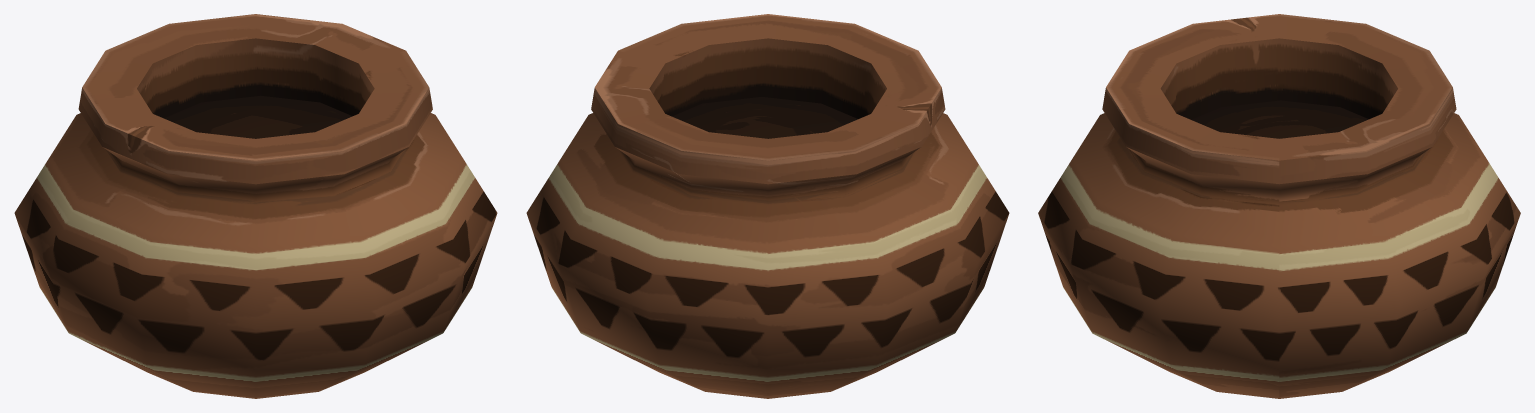
The model's file is SM_PROP_pot_dungeon_02.fbx.
The picture shows the model from 3 angles, left to right: view 1: azimuth 30°, elevation 25°; view 2: azimuth 150°, elevation 25°; view 3: azimuth 270°, elevation 25°; orthographic projection.
Parts seen in each view (by area): view 1: SM_PROP_pot_dungeon_02; view 2: SM_PROP_pot_dungeon_02; view 3: SM_PROP_pot_dungeon_02.
Part boxes in pixels (<box>): SM_PROP_pot_dungeon_02: <box>14,14,497,398</box>; SM_PROP_pot_dungeon_02: <box>526,14,1009,398</box>; SM_PROP_pot_dungeon_02: <box>1038,14,1520,398</box>.
Size of the model in its own units: 58.77 by 34.71 by 58.77.
